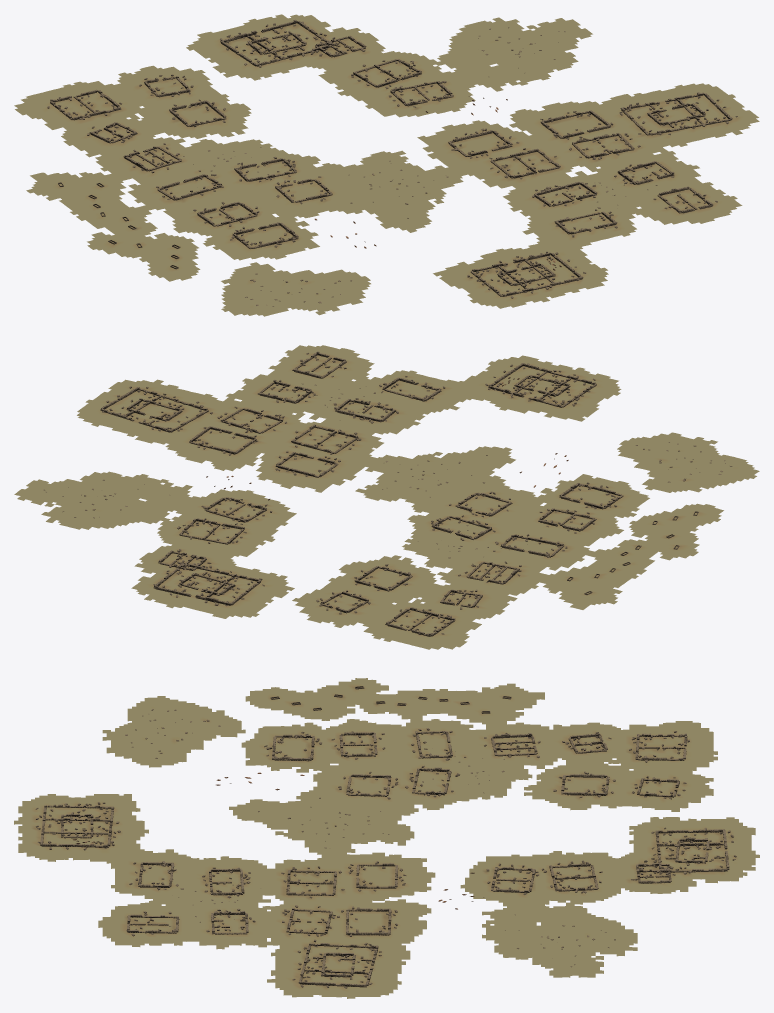
3 views of the same model, one above another, from view 1: azimuth 30°, elevation 25°; view 2: azimuth 150°, elevation 25°; view 3: azimuth 270°, elevation 25° (orthographic). The views are drawn at different scales.
Visible parts, largest first — view 1: sediment, walls; view 2: sediment, walls; view 3: sediment, walls.
Part boxes in pixels (<box>): sediment: <box>14,14,759,316</box>; walls: <box>47,19,737,298</box>; sediment: <box>14,345,759,649</box>; walls: <box>100,351,623,636</box>; sediment: <box>14,678,759,998</box>; walls: <box>35,728,736,988</box>.
Bounding box in the file's own units: 180 × 1.17 × 177.
3 materials, 1 textured.
